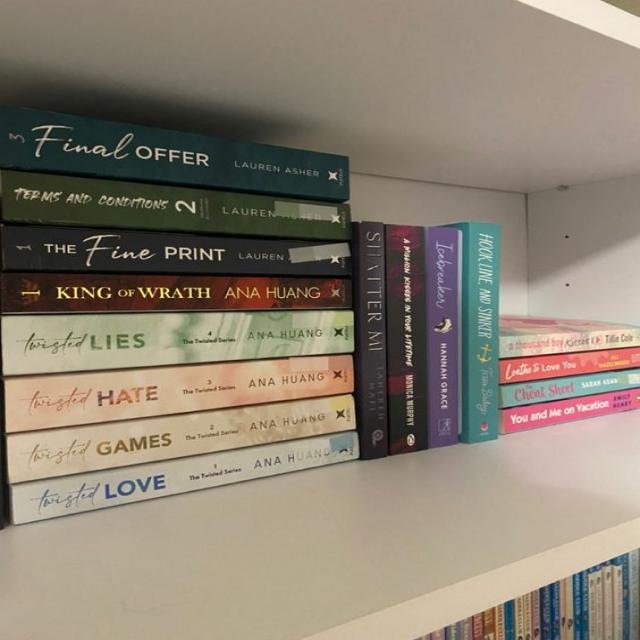book: (0, 106, 348, 201), (11, 432, 359, 524), (9, 395, 353, 483), (6, 355, 353, 433), (0, 170, 350, 239), (2, 311, 353, 374), (2, 226, 348, 277), (0, 273, 350, 312), (450, 222, 499, 443), (422, 226, 459, 451), (385, 226, 421, 453), (353, 223, 387, 459), (500, 388, 639, 433), (499, 369, 639, 409), (499, 347, 639, 384), (499, 329, 640, 361)
